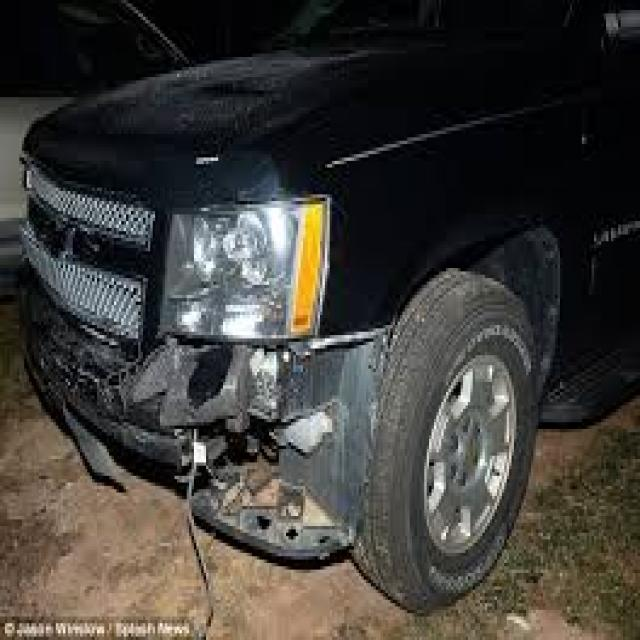minor: (104, 305, 398, 570)
